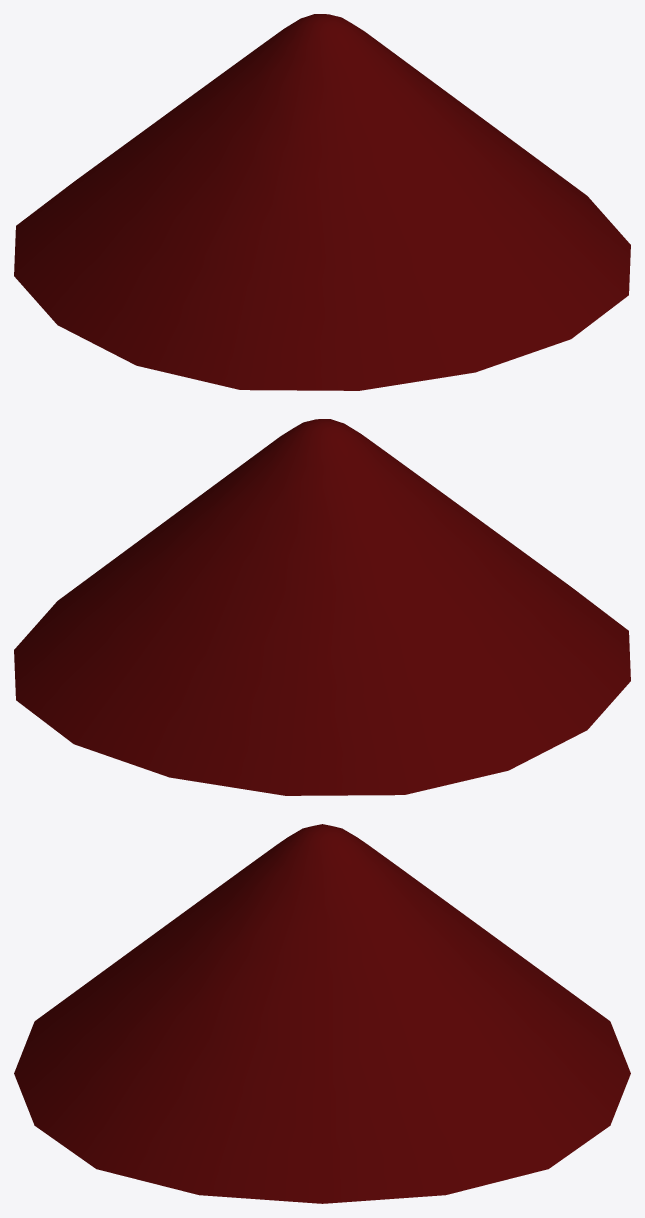
File: Substance_Light_Yellow.fbx
The picture shows the model from 3 angles, top to bottom: view 1: azimuth 30°, elevation 25°; view 2: azimuth 150°, elevation 25°; view 3: azimuth 270°, elevation 25°; orthographic projection.
Visible parts, largest first — view 1: Substance_Light_Yellow; view 2: Substance_Light_Yellow; view 3: Substance_Light_Yellow.
Boxes of the visible parts, x1,y1,x2,y2 form: Substance_Light_Yellow: [14, 14, 630, 390]; Substance_Light_Yellow: [14, 419, 630, 795]; Substance_Light_Yellow: [14, 824, 630, 1203].
Bounding box in the file's own units: 260 × 114 × 260.
